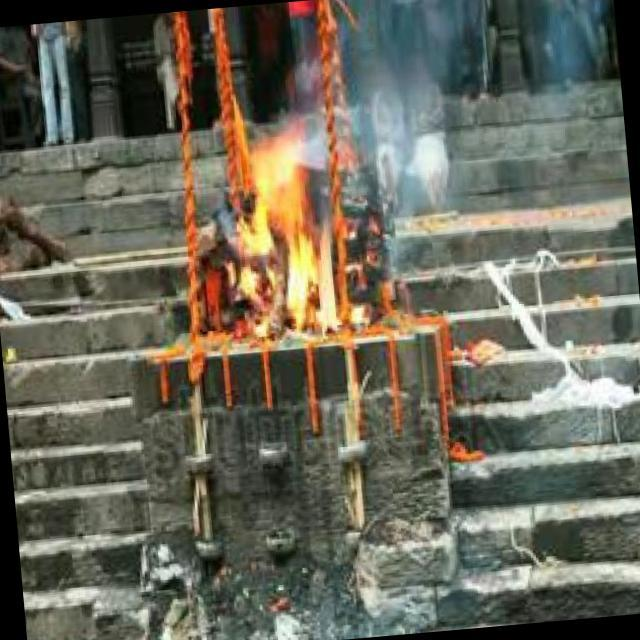Fire: (226, 134, 348, 348)
